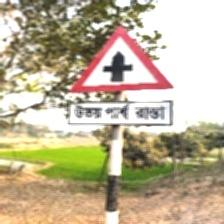Crossroad: (67, 25, 177, 128)
